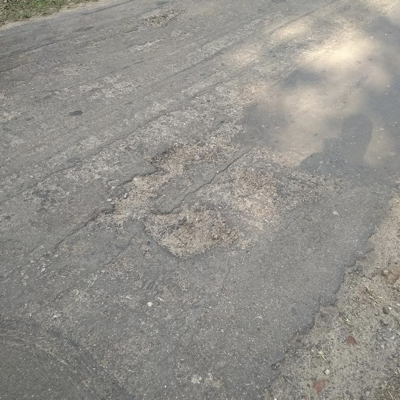pothole: (262, 195, 400, 400), (90, 143, 197, 230), (143, 200, 227, 262), (141, 9, 183, 28)
